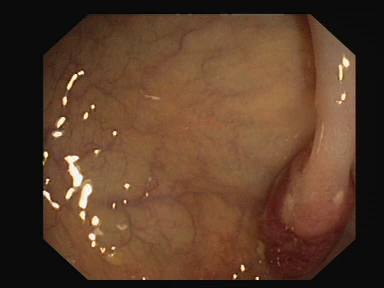polyp: (263, 128, 356, 246)
